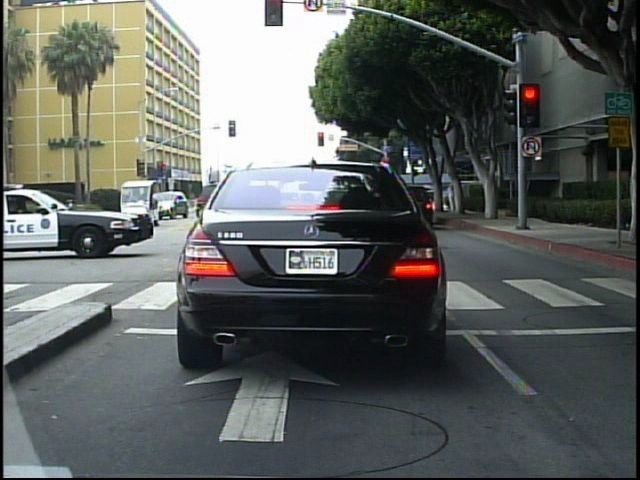person: (446, 182, 456, 214)
